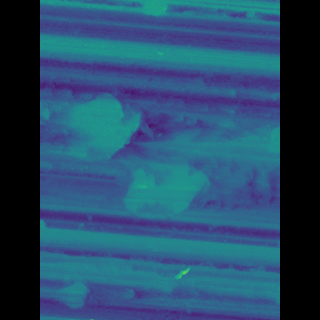Loch: (125, 156, 249, 213), (87, 89, 149, 169)
